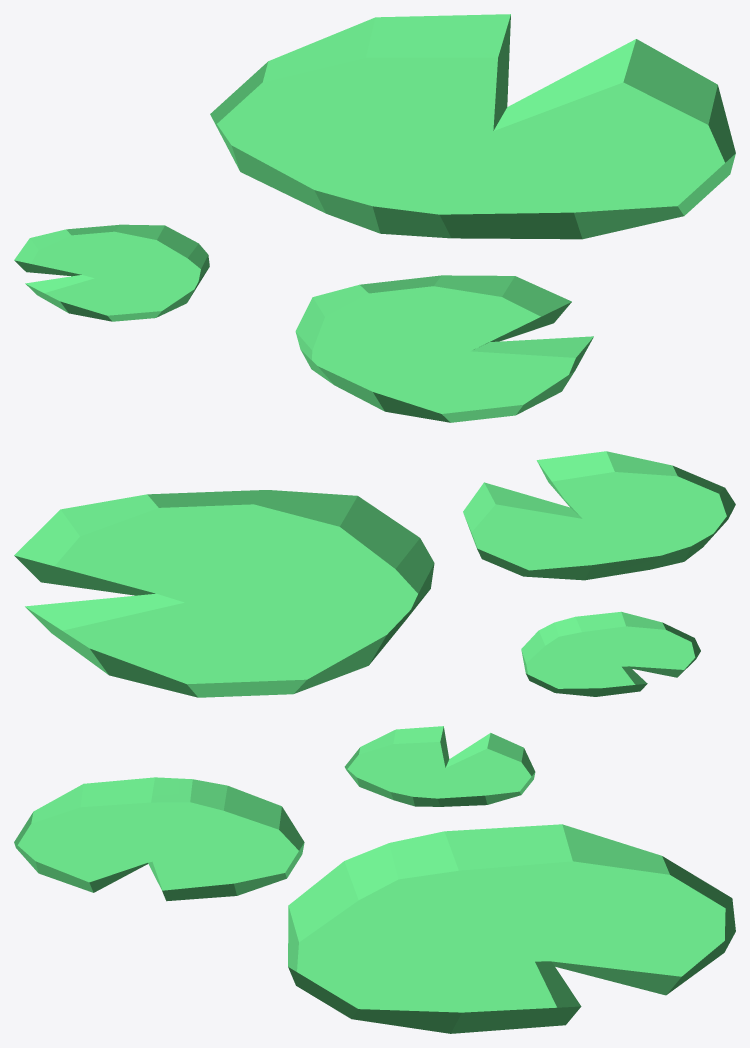
Rendered from SM_Water_Grass_01.fbx.
3 views of the same model, one above another, from view 1: azimuth 30°, elevation 25°; view 2: azimuth 150°, elevation 25°; view 3: azimuth 270°, elevation 25° (orthographic). The views are drawn at different scales.
Parts seen in each view (by area): view 1: Waterplant.002; view 2: Waterplant.002; view 3: Waterplant.002.
Part boxes in pixels (left/top/right/bottom): Waterplant.002: left=14, top=14, right=735, bottom=422; Waterplant.002: left=14, top=451, right=735, bottom=697; Waterplant.002: left=14, top=726, right=735, bottom=1033.
Bounding box in the file's own units: 127 × 6.66 × 128.
